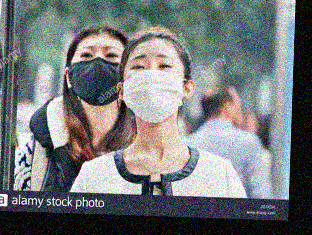with_mask: (121, 50, 185, 124), (67, 41, 125, 107)
